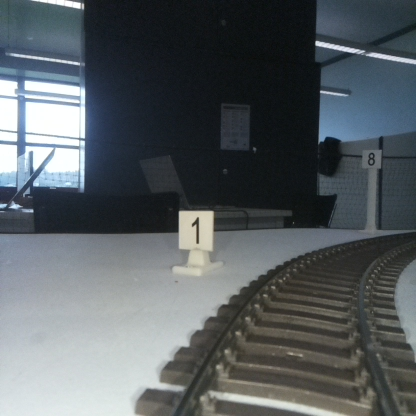white-info-8: (362, 149, 381, 234)
white-stop-1: (178, 211, 213, 273)
